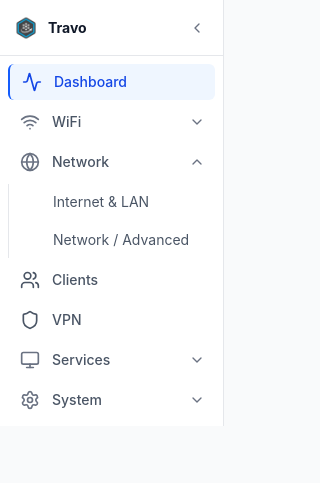
it: Sidebar › shows Advanced (not Connect) after opening WiFi group via arrow
The width and height of the screenshot is (320, 483).
Expected: the link "WiFi" is shown, top-left (20, 112), bottom-right (81, 132)
Click the button named "Toggle WiFi menu" at (197, 122), box top-left (179, 104), bottom-right (215, 140)
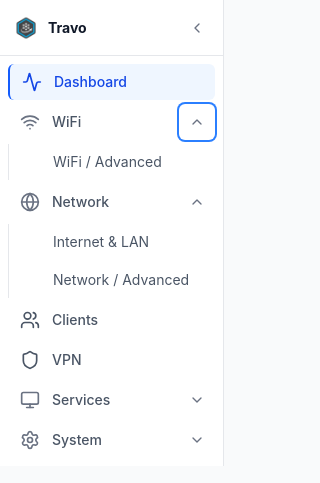
Expected: the link "WiFi / Advanced" is shown, top-left (53, 153), bottom-right (162, 170)
